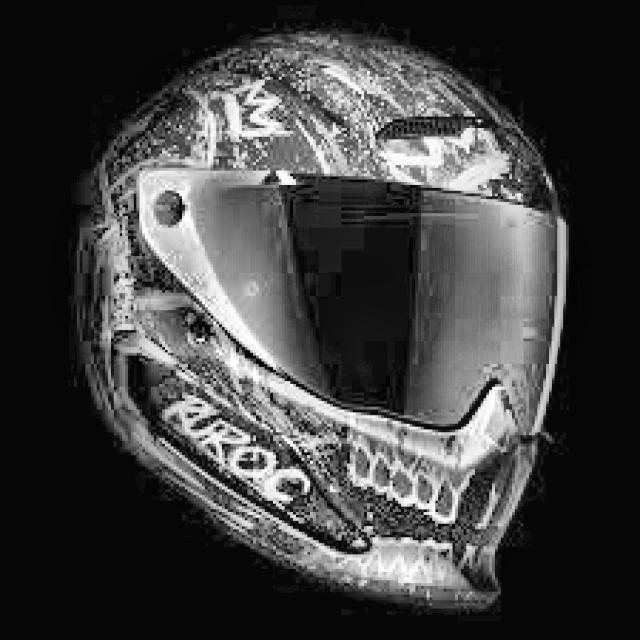Helmet: (71, 27, 614, 640)
